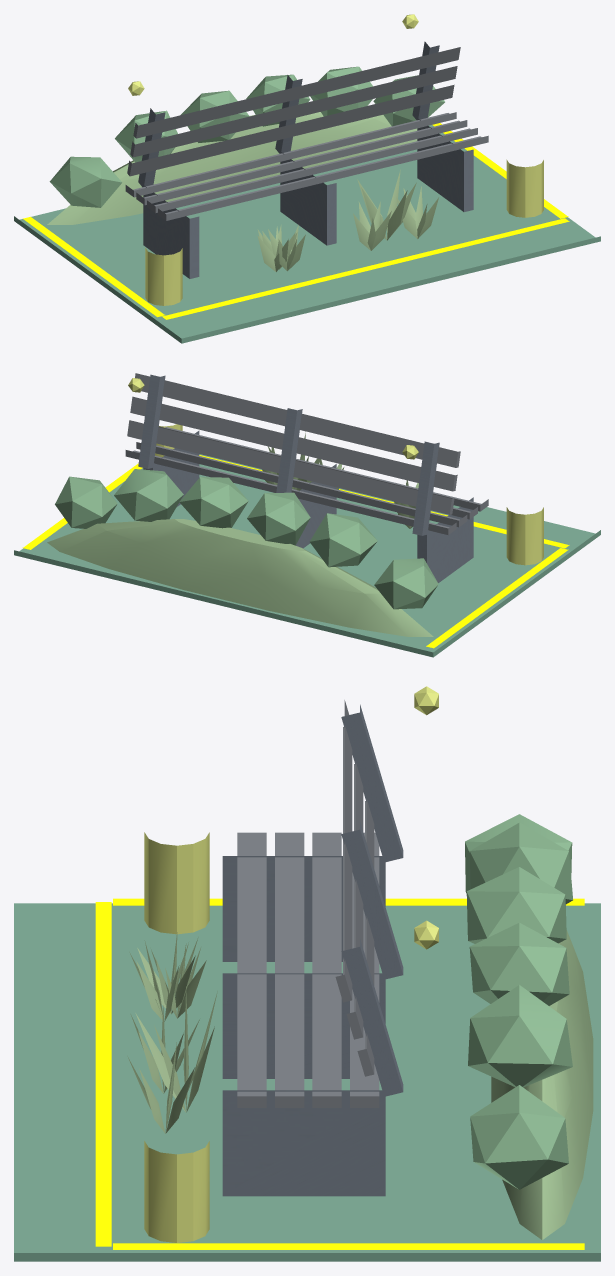
3 views of the same model, one above another, from view 1: azimuth 30°, elevation 25°; view 2: azimuth 150°, elevation 25°; view 3: azimuth 270°, elevation 25° (orthographic). The views are drawn at different scales.
Visible parts, largest first — view 1: Safety_Pad, Bench_Back, Bench_Seat, Bench_Frame, Foliage, Terrain, Grass_Tufts, Ball_Side_Tables, Court_Line; view 2: Terrain, Safety_Pad, Foliage, Bench_Back, Bench_Frame, Bench_Seat, Court_Line, Ball_Side_Tables, Grass_Tufts; view 3: Safety_Pad, Bench_Frame, Foliage, Bench_Seat, Ball_Side_Tables, Court_Line, Terrain, Grass_Tufts, Bench_Back, Ball_Finials.
Part boxes in pixels (box(x1,y1,x2,y2)): Safety_Pad: box(14, 125, 600, 343); Bench_Back: box(127, 47, 460, 176); Bench_Seat: box(125, 112, 488, 220); Bench_Frame: box(138, 41, 473, 278); Foliage: box(49, 66, 444, 207); Terrain: box(47, 112, 417, 224); Grass_Tufts: box(257, 169, 438, 271); Ball_Side_Tables: box(145, 159, 543, 305); Court_Line: box(22, 123, 569, 319); Terrain: box(47, 519, 433, 636); Safety_Pad: box(14, 454, 600, 657); Foliage: box(55, 469, 438, 609); Bench_Back: box(127, 373, 460, 514); Bench_Frame: box(138, 374, 473, 582); Bench_Seat: box(125, 426, 488, 534); Court_Line: box(22, 455, 569, 648); Ball_Side_Tables: box(155, 424, 543, 565); Grass_Tufts: box(262, 431, 418, 528); Safety_Pad: box(14, 903, 600, 1261); Bench_Frame: box(222, 704, 403, 1196); Foliage: box(465, 814, 572, 1189); Bench_Seat: box(237, 832, 379, 1107); Ball_Side_Tables: box(144, 832, 209, 1242); Court_Line: box(95, 898, 584, 1249); Terrain: box(491, 930, 593, 1240); Grass_Tufts: box(127, 932, 217, 1133); Bench_Back: box(335, 700, 374, 1076); Ball_Finials: box(414, 686, 438, 949).
Size of what is drawn, in the model's own units: 2.6 by 0.9339 by 1.8.
Materials: 8 (1 with a texture image).
